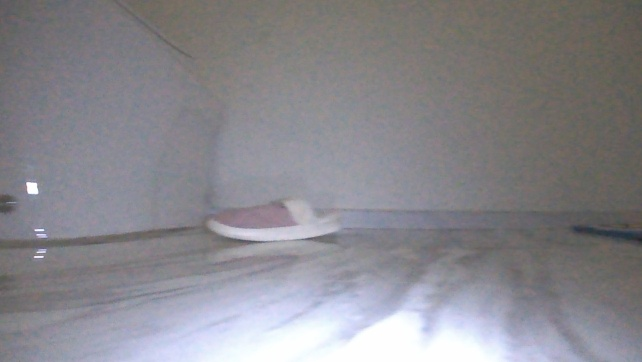shoe: (198, 193, 343, 245)
toilet: (0, 0, 219, 247)
